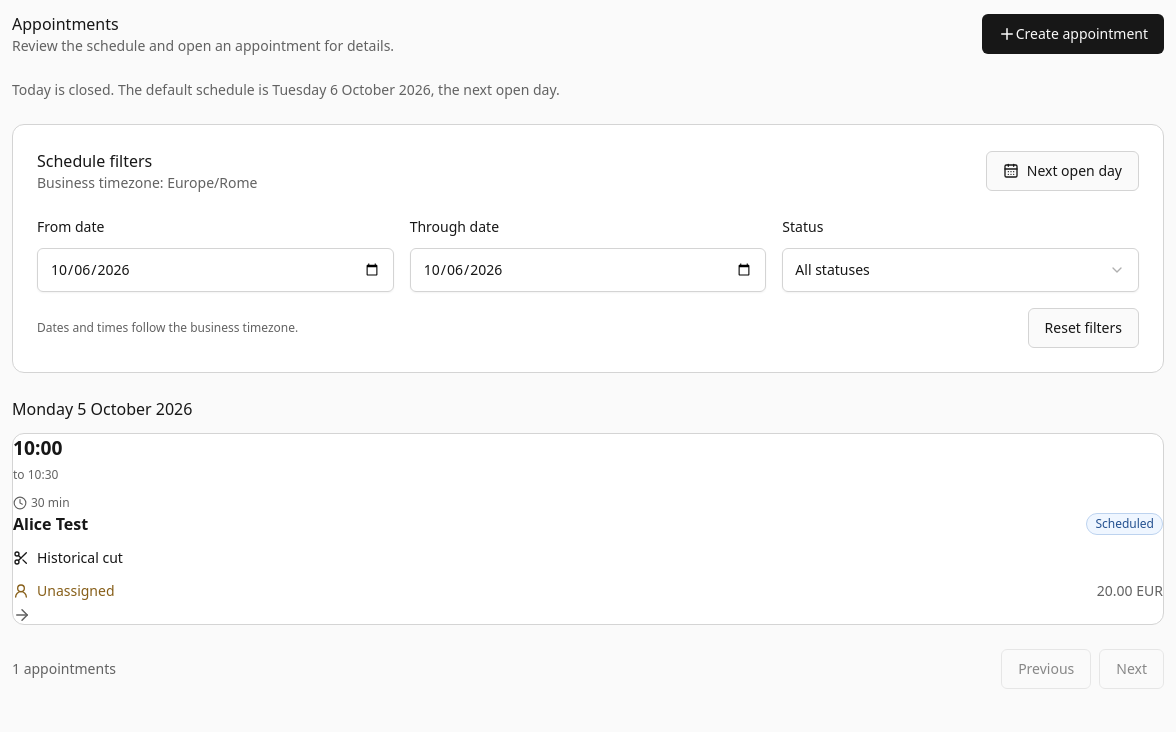
Test case: closed days default to the next open day and reset returns to it
Expected: the heading "Alice Test" is shown, [13,512,88,536]
Expected: the date field labelled "Through date" holds "2026-10-06", [410,248,766,292]
Type "2026-10-03" into the date field labelled "From date" at x=215, y=270, box [37,248,394,292]
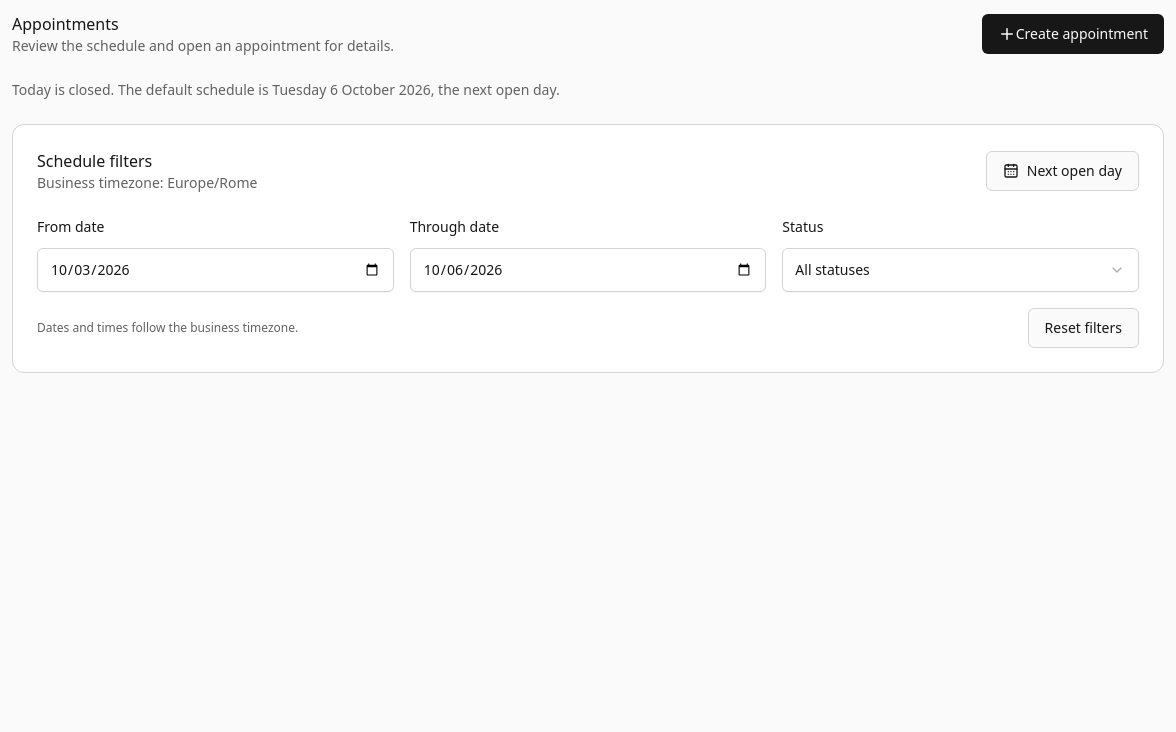
Click the button "Next open day" at x=1062, y=171, box [986,151,1139,191]
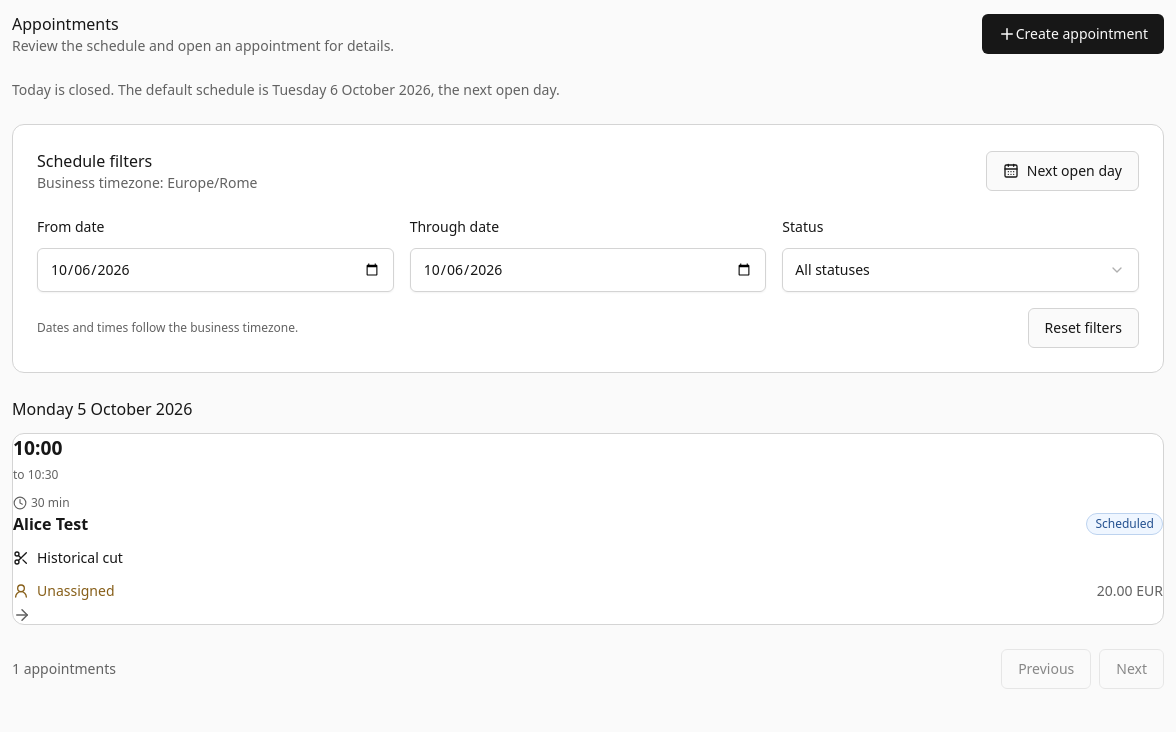
Expected: the date field labelled "From date" holds "2026-10-06"
Type "2026-10-03" into the date field labelled "From date" at x=215, y=270, box [37,248,394,292]
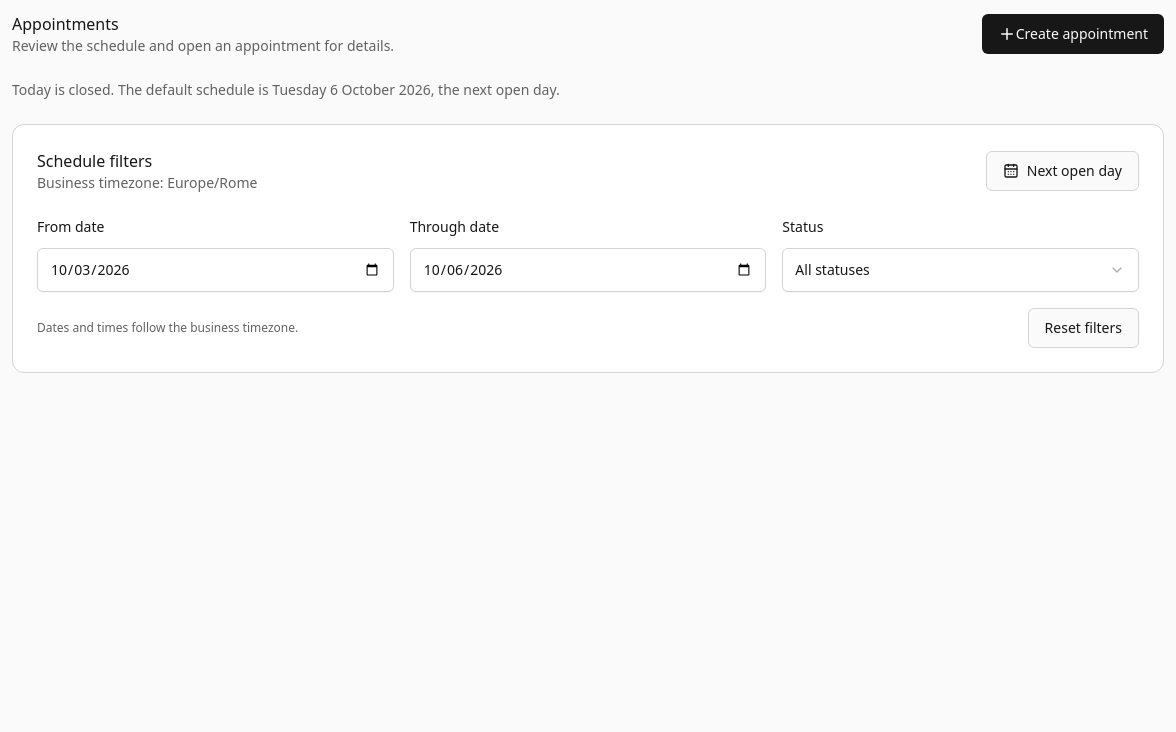
Click the button "Reset filters" at x=1083, y=328, box [1028,308,1139,348]
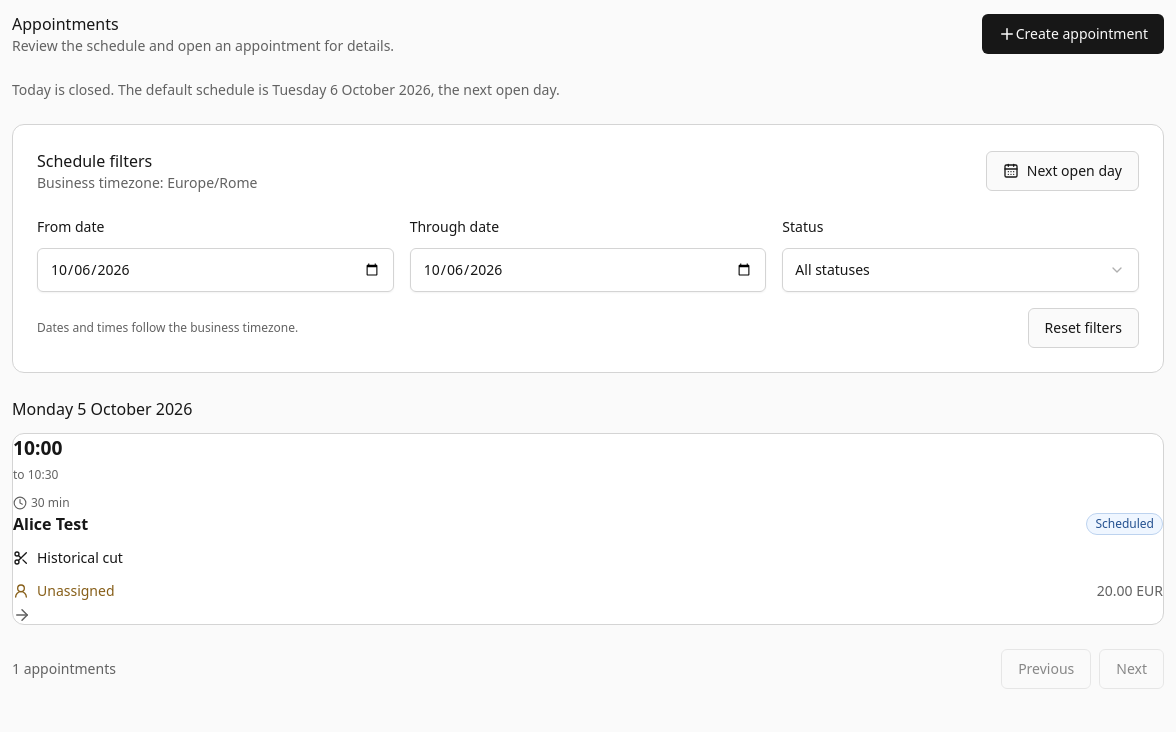
Expected: the date field labelled "From date" holds "2026-10-06", [37,248,394,292]
